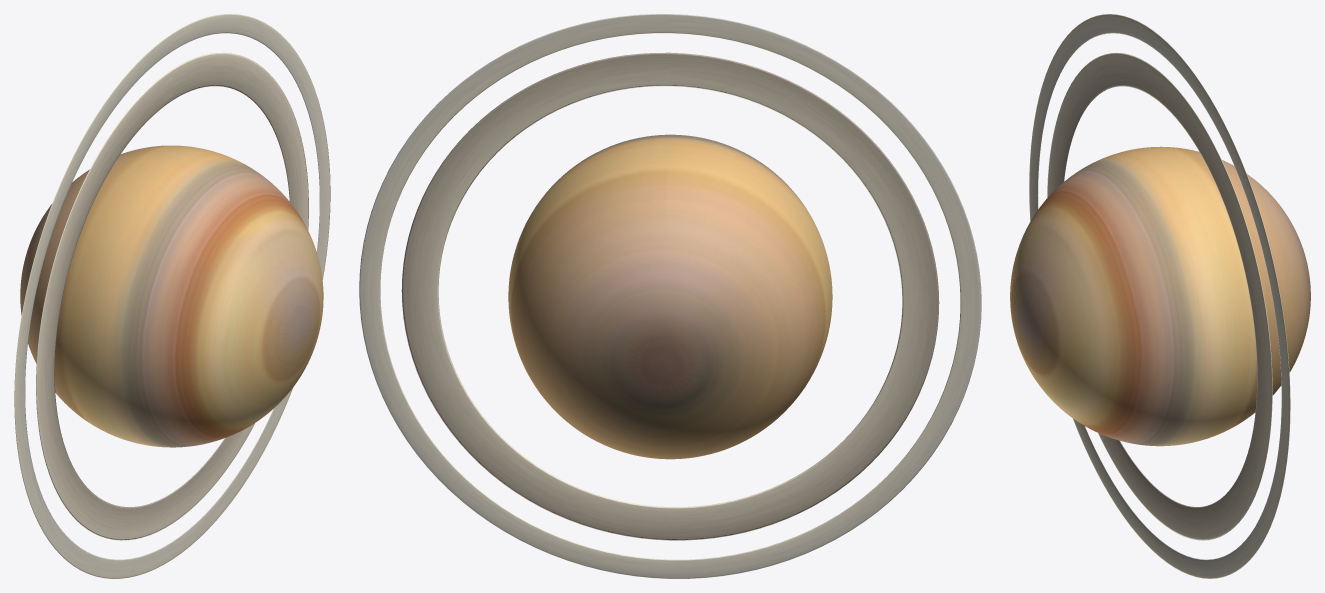
The model's file is saturn.glb.
3 renders of one model, left to right at view 1: azimuth 30°, elevation 25°; view 2: azimuth 150°, elevation 25°; view 3: azimuth 270°, elevation 25°, orthographic. The views are drawn at different scales.
Parts seen in each view (by area): view 1: 13906_Saturn_v1_l3; view 2: 13906_Saturn_v1_l3; view 3: 13906_Saturn_v1_l3.
Part boxes in pixels (<box>): 13906_Saturn_v1_l3: <box>14,14,330,578</box>; 13906_Saturn_v1_l3: <box>359,14,981,578</box>; 13906_Saturn_v1_l3: <box>1010,14,1310,578</box>.
Size of the model in its own units: 861 by 966 by 505.
Materials: 1 (1 with a texture image).
